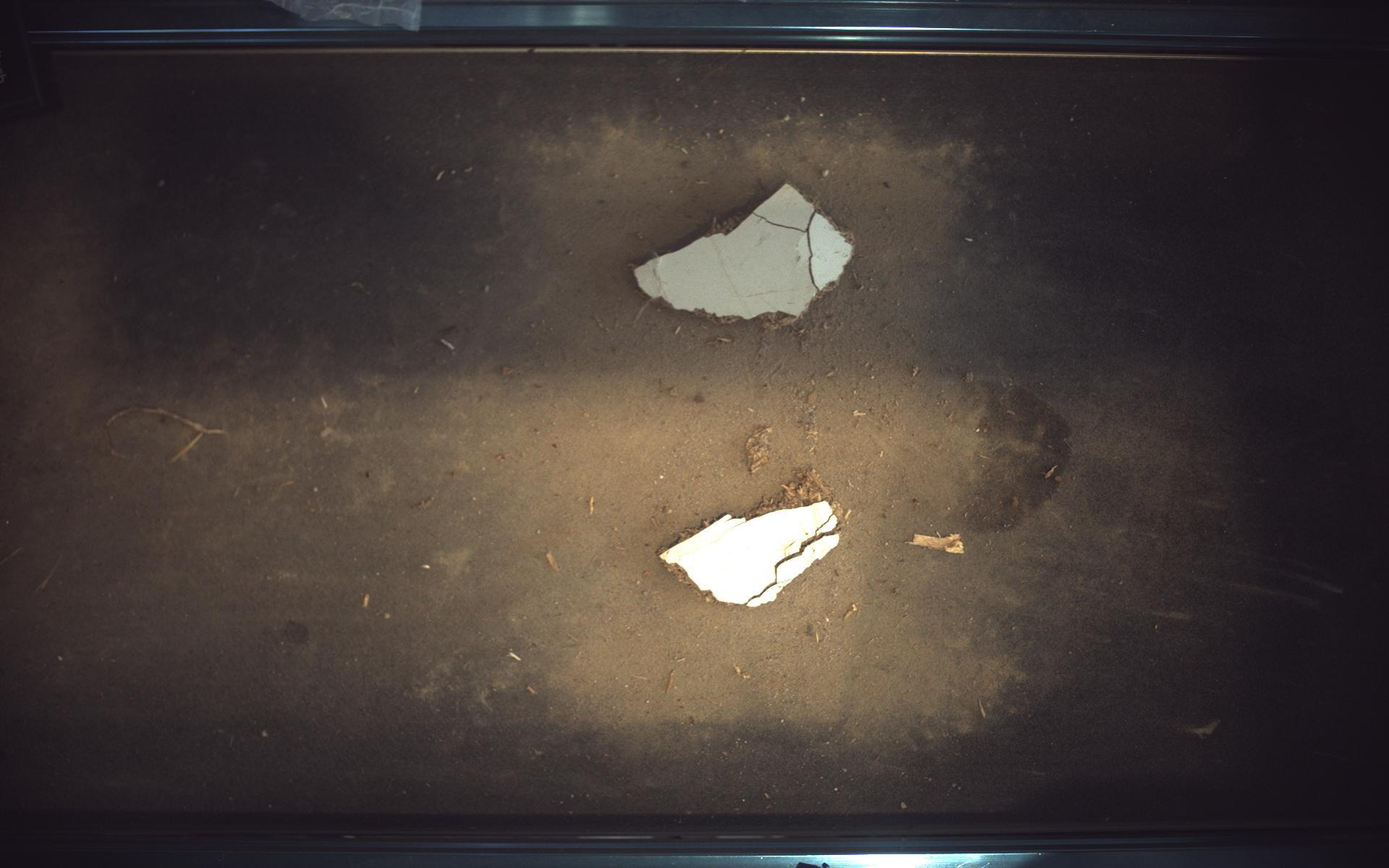wood: (635, 183, 854, 318), (660, 470, 844, 608)
